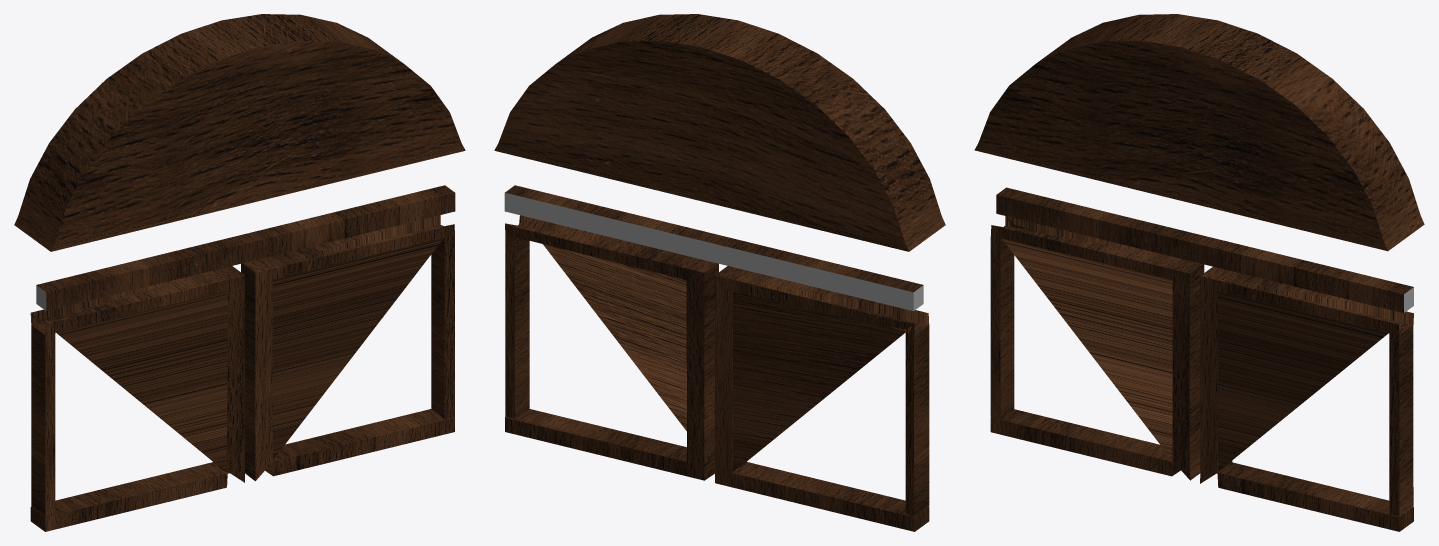
Rendered from Window.fbx.
The picture shows the model from 3 angles, left to right: view 1: azimuth 30°, elevation 25°; view 2: azimuth 150°, elevation 25°; view 3: azimuth 330°, elevation 25°; orthographic projection.
Parts seen in each view (by area): view 1: Window; view 2: Window; view 3: Window.
Part boxes in pixels (bbox=[...]): Window: bbox=[14, 14, 465, 531]; Window: bbox=[494, 14, 945, 531]; Window: bbox=[974, 14, 1424, 531].
Size of the model in its own units: 2.62 by 2.67 by 0.3997.
Materials: 2 (1 with a texture image).
